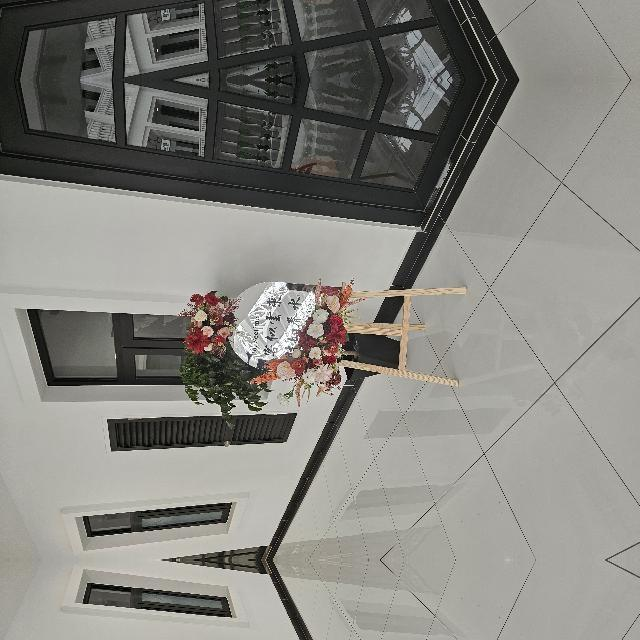door: (339, 81, 479, 573), (339, 547, 479, 640), (339, 0, 479, 79)
obstacle: (161, 264, 287, 548), (161, 572, 287, 640)
